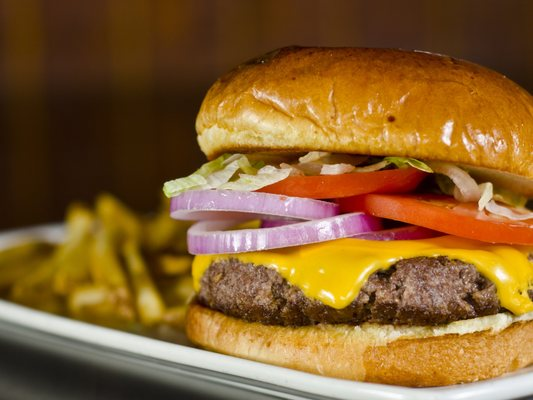soup: (161, 47, 533, 340)
